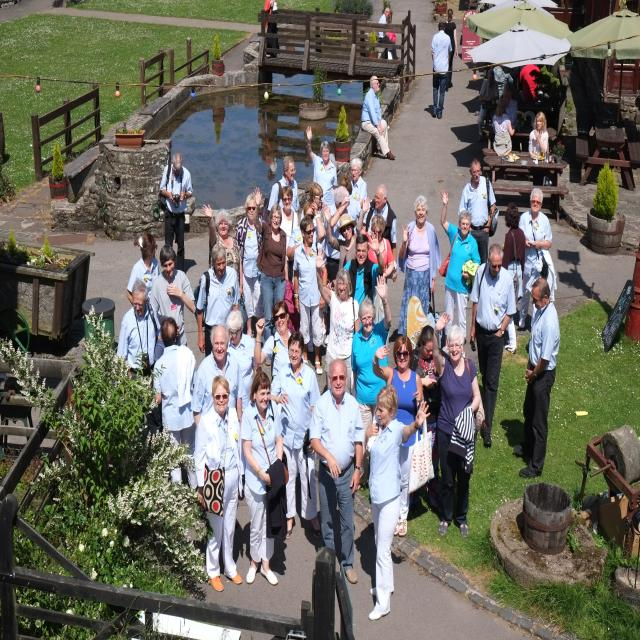body: (207, 511, 405, 608), (362, 382, 430, 623), (430, 310, 487, 540), (308, 358, 365, 586), (192, 372, 246, 592), (269, 331, 323, 539), (372, 336, 426, 538), (469, 242, 518, 452), (512, 276, 562, 478), (240, 372, 284, 586), (152, 316, 201, 504), (350, 274, 394, 469), (437, 186, 482, 352), (315, 246, 361, 396), (192, 324, 246, 449), (398, 194, 442, 336), (252, 186, 286, 366), (292, 216, 329, 375), (356, 196, 395, 346), (408, 325, 442, 497), (192, 242, 241, 360), (518, 187, 558, 330), (323, 185, 358, 331), (149, 243, 198, 347), (116, 280, 161, 388), (234, 194, 266, 338), (343, 230, 385, 339), (156, 152, 194, 272), (253, 298, 305, 385), (457, 157, 497, 266), (202, 203, 244, 299), (225, 310, 262, 414), (502, 202, 526, 354), (362, 185, 398, 282), (361, 75, 396, 160), (300, 183, 328, 280), (306, 125, 338, 208), (261, 156, 300, 223), (126, 233, 161, 307), (286, 200, 327, 262), (322, 202, 357, 271), (431, 20, 453, 119), (503, 415, 543, 463), (279, 185, 299, 280), (476, 70, 499, 142), (528, 111, 549, 186), (339, 174, 363, 237), (377, 7, 402, 61), (442, 8, 458, 92), (492, 98, 515, 156), (264, 108, 280, 181), (263, 0, 281, 58), (496, 75, 528, 107), (348, 157, 368, 208), (502, 87, 518, 127), (424, 99, 445, 117), (371, 136, 386, 161)
